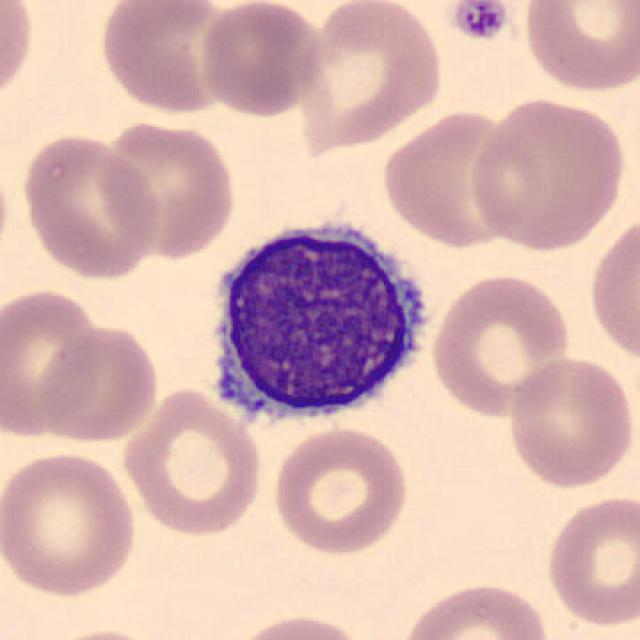Lymphocyte: (192, 207, 439, 436)
Platelets: (448, 0, 514, 42)
RBC: (466, 93, 629, 254), (293, 0, 447, 153), (117, 384, 267, 540), (428, 270, 576, 420), (18, 131, 162, 282), (0, 448, 142, 599), (96, 116, 240, 263), (378, 106, 522, 250), (268, 423, 412, 557), (503, 353, 637, 492), (94, 0, 242, 118), (0, 284, 110, 439), (34, 321, 162, 446), (197, 0, 327, 120), (542, 490, 638, 631), (519, 0, 638, 95), (396, 578, 554, 640), (585, 210, 638, 370), (0, 0, 37, 113), (228, 612, 374, 640), (36, 626, 170, 640), (0, 149, 12, 280)
